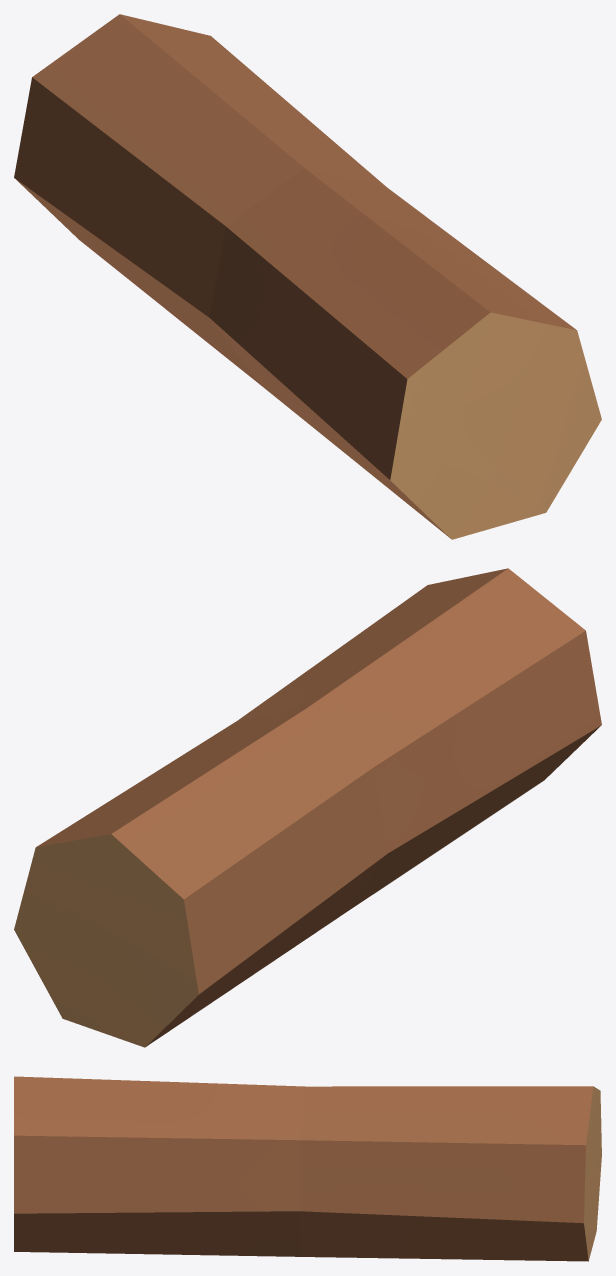
File: log.fbx
3 views of the same model, one above another, from view 1: azimuth 30°, elevation 25°; view 2: azimuth 150°, elevation 25°; view 3: azimuth 270°, elevation 25° (orthographic). The views are drawn at different scales.
Parts seen in each view (by area): view 1: log; view 2: log; view 3: log.
Boxes of the visible parts, left/top/right/bottom form: log: left=14, top=14, right=601, bottom=539; log: left=14, top=568, right=601, bottom=1047; log: left=14, top=1076, right=601, bottom=1261.
Bounding box in the file's own units: 41.95 × 36.64 × 123.
1 material, 1 textured.
